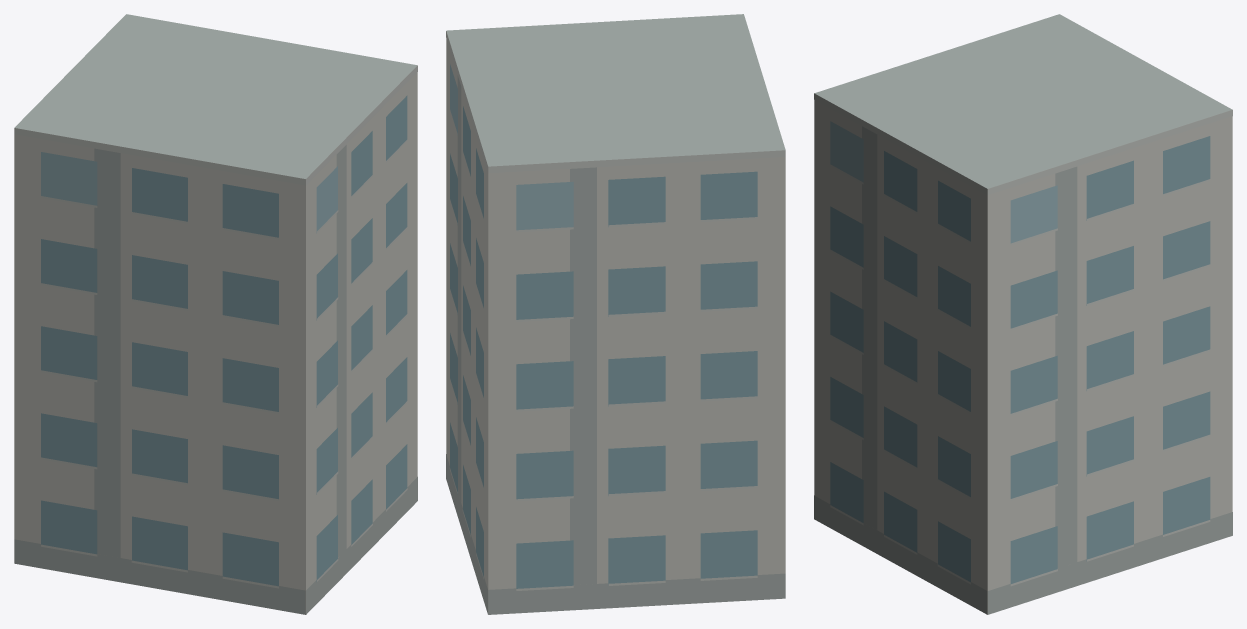
Rendered from residential-82abb7b4-669b-42c4-89e2-74f50c0d9a08.glb.
3 views of the same model, side by side, from view 1: azimuth 30°, elevation 25°; view 2: azimuth 150°, elevation 25°; view 3: azimuth 270°, elevation 25° (orthographic). The views are drawn at different scales.
Visible parts, largest first — view 1: residential-82abb7b4-669b-42c4-89e2-74f50c0d9a08.tmp; view 2: residential-82abb7b4-669b-42c4-89e2-74f50c0d9a08.tmp; view 3: residential-82abb7b4-669b-42c4-89e2-74f50c0d9a08.tmp.
Boxes of the visible parts, x1,y1,x2,y2 form: residential-82abb7b4-669b-42c4-89e2-74f50c0d9a08.tmp: [14, 14, 417, 614]; residential-82abb7b4-669b-42c4-89e2-74f50c0d9a08.tmp: [446, 14, 785, 614]; residential-82abb7b4-669b-42c4-89e2-74f50c0d9a08.tmp: [814, 14, 1232, 614].
Bounding box in the file's own units: 14.19 × 16.1 × 14.35.
